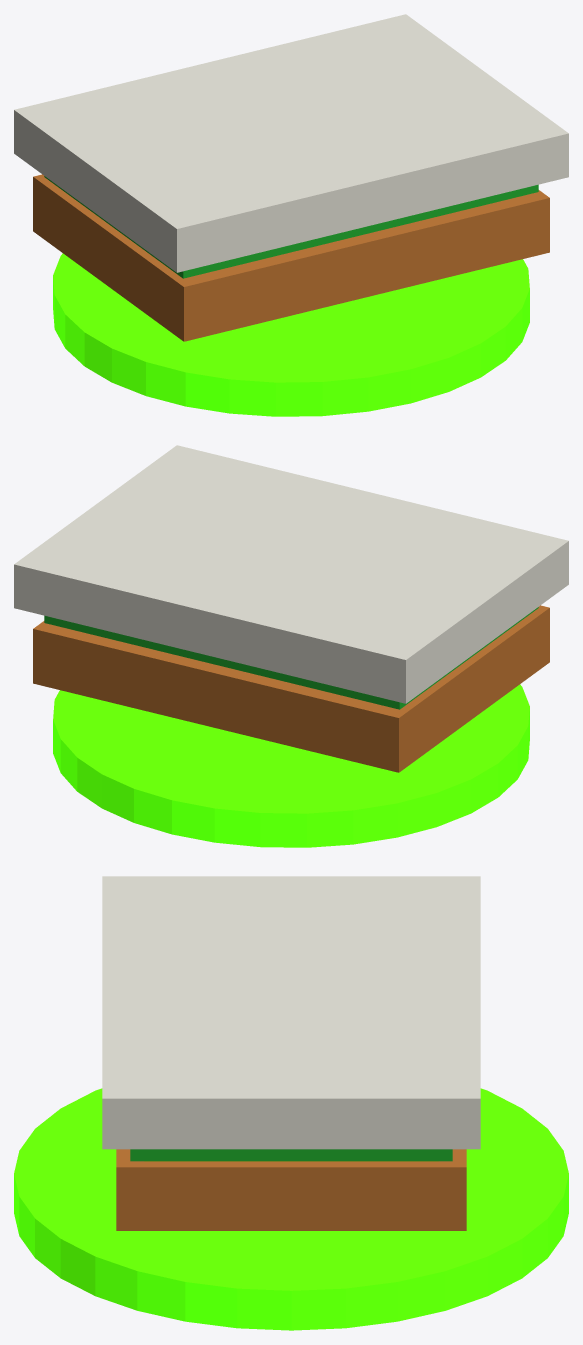
The model's file is food_sandwich.dae.
3 views of the same model, one above another, from view 1: azimuth 30°, elevation 25°; view 2: azimuth 150°, elevation 25°; view 3: azimuth 270°, elevation 25° (orthographic). The views are drawn at different scales.
Visible parts, largest first — view 1: 01_11_Popular_Food_Sandwich_part_02, 01_11_Popular_Food_Sandwich_ROOT_base, 01_11_Popular_Food_Sandwich_part_01, 01_11_Popular_Food_Sandwich_part_03; view 2: 01_11_Popular_Food_Sandwich_part_02, 01_11_Popular_Food_Sandwich_ROOT_base, 01_11_Popular_Food_Sandwich_part_01, 01_11_Popular_Food_Sandwich_part_03; view 3: 01_11_Popular_Food_Sandwich_part_02, 01_11_Popular_Food_Sandwich_ROOT_base, 01_11_Popular_Food_Sandwich_part_01, 01_11_Popular_Food_Sandwich_part_03.
Part boxes in pixels (box(x1,y1,x2,y2)): 01_11_Popular_Food_Sandwich_part_02: box(14, 14, 568, 272); 01_11_Popular_Food_Sandwich_ROOT_base: box(53, 253, 529, 416); 01_11_Popular_Food_Sandwich_part_01: box(33, 174, 549, 341); 01_11_Popular_Food_Sandwich_part_03: box(44, 176, 538, 278); 01_11_Popular_Food_Sandwich_part_02: box(14, 445, 568, 703); 01_11_Popular_Food_Sandwich_ROOT_base: box(53, 684, 529, 847); 01_11_Popular_Food_Sandwich_part_01: box(33, 605, 549, 772); 01_11_Popular_Food_Sandwich_part_03: box(44, 607, 538, 709); 01_11_Popular_Food_Sandwich_part_02: box(102, 876, 480, 1149); 01_11_Popular_Food_Sandwich_ROOT_base: box(14, 1088, 568, 1330); 01_11_Popular_Food_Sandwich_part_01: box(116, 1149, 466, 1230); 01_11_Popular_Food_Sandwich_part_03: box(130, 1149, 452, 1161).
Size of the model in its own units: 0.76 by 0.3412 by 0.76.
